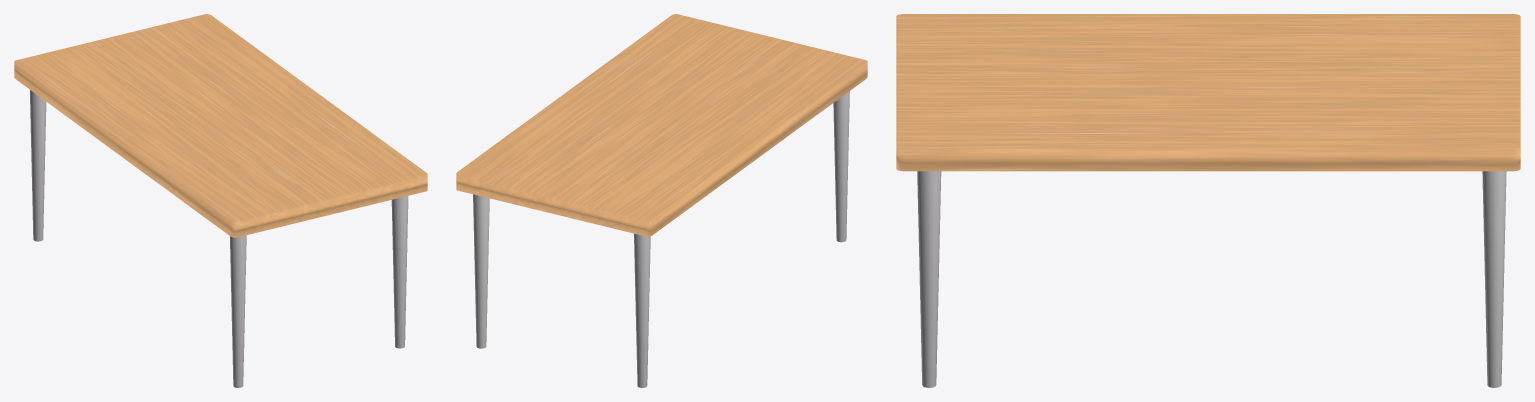
File: biurko.glb
3 renders of one model, left to right at view 1: azimuth 30°, elevation 25°; view 2: azimuth 150°, elevation 25°; view 3: azimuth 270°, elevation 25°, orthographic. The views are drawn at different scales.
Parts seen in each view (by area): view 1: Cube, Cylinder, Cylinder.004, Cylinder.003; view 2: Cube, Cylinder.003, Cylinder.005, Cylinder; view 3: Cube, Cylinder.005, Cylinder.004.
Part boxes in pixels (<box>): Cube: <box>14,14,427,237</box>; Cylinder: <box>230,235,246,387</box>; Cylinder.004: <box>391,196,408,348</box>; Cylinder.003: <box>30,90,46,241</box>; Cube: <box>456,14,867,236</box>; Cylinder.003: <box>634,233,650,387</box>; Cylinder.005: <box>473,194,489,348</box>; Cylinder: <box>833,91,849,242</box>; Cube: <box>896,14,1520,171</box>; Cylinder.005: <box>1482,171,1506,387</box>; Cylinder.004: <box>917,171,941,387</box>.
Size of the model in its own units: 0.0684 by 0.0586 by 0.1334.
3 materials, 1 textured.
